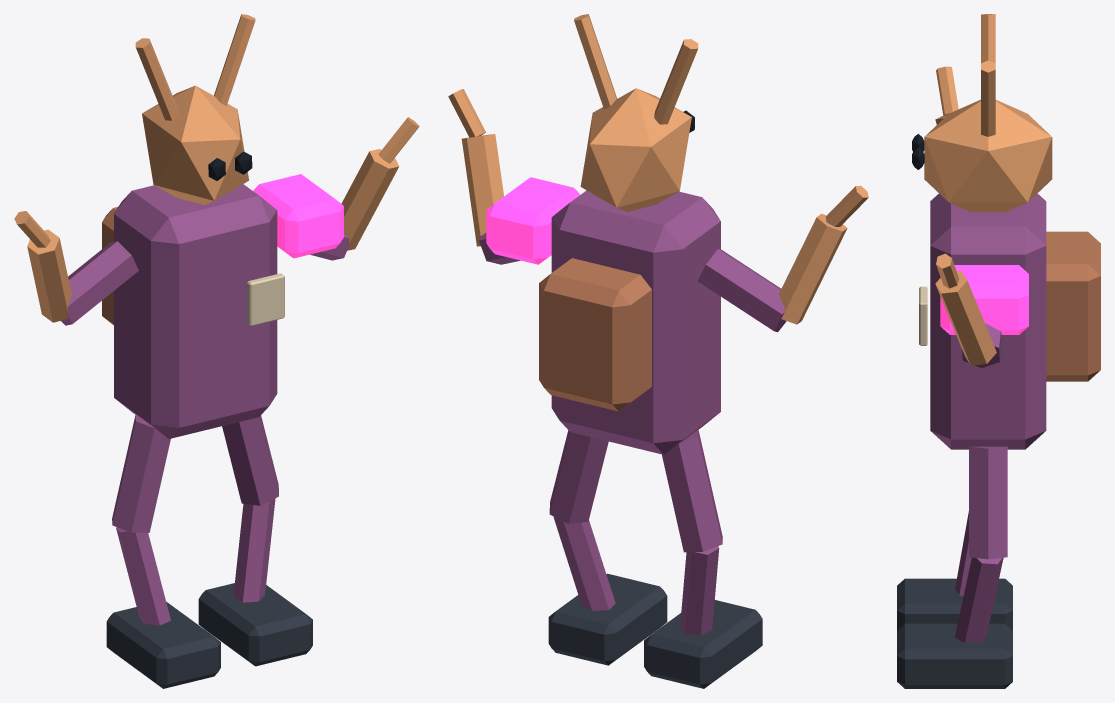
File: npcs_014_seed78877.glb
3 renders of one model, left to right at view 1: azimuth 30°, elevation 25°; view 2: azimuth 150°, elevation 25°; view 3: azimuth 270°, elevation 25°, orthographic. The views are drawn at different scales.
Visible parts, largest first — view 1: npcs_014_seed78877; view 2: npcs_014_seed78877; view 3: npcs_014_seed78877.
Part boxes in pixels (x1,y1,x2,y2): npcs_014_seed78877: [14, 14, 419, 688]; npcs_014_seed78877: [448, 14, 868, 688]; npcs_014_seed78877: [897, 14, 1100, 688].
Bounding box in the file's own units: 1.27 × 1.84 × 0.5525.
